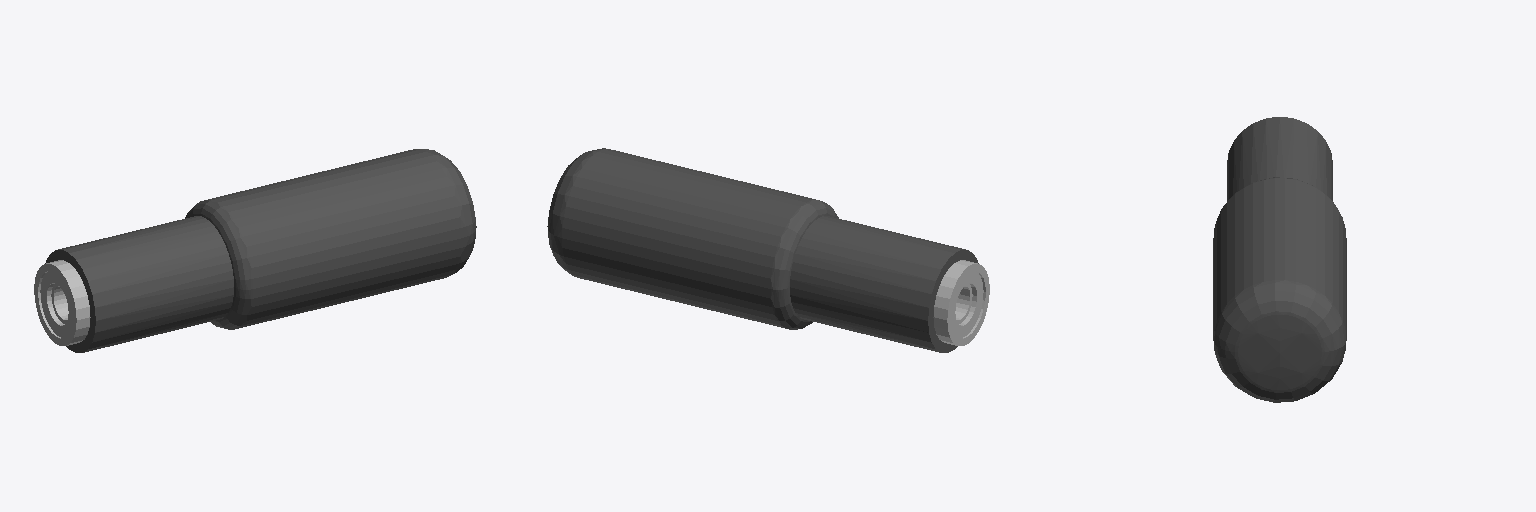
The picture shows the model from 3 angles: view 1: azimuth 30°, elevation 25°; view 2: azimuth 150°, elevation 25°; view 3: azimuth 270°, elevation 25°; orthographic projection.
Parts seen in each view (by area): view 1: gn_798_2-kt-25-m8_1; view 2: gn_798_2-kt-25-m8_1; view 3: gn_798_2-kt-25-m8_1.
Part boxes in pixels (left/top/right/bottom): gn_798_2-kt-25-m8_1: left=34, top=149, right=476, bottom=352; gn_798_2-kt-25-m8_1: left=547, top=148, right=989, bottom=352; gn_798_2-kt-25-m8_1: left=1213, top=117, right=1346, bottom=402.
Bounding box in the file's own units: 87 × 24.91 × 25.